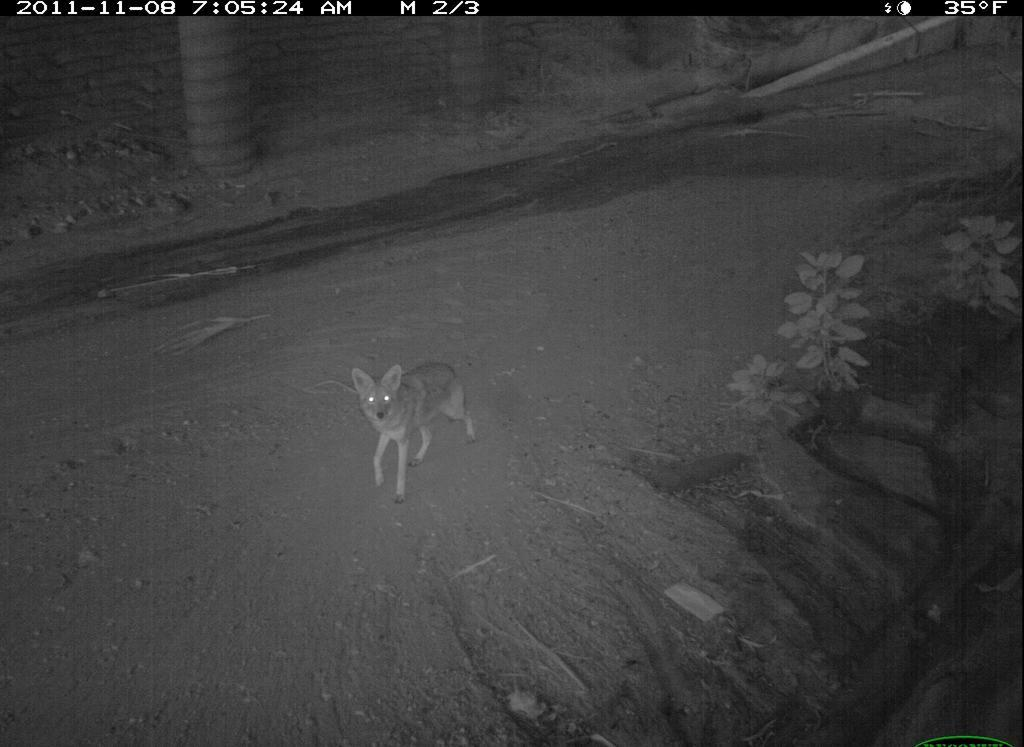coyote: (341, 356, 488, 511)
